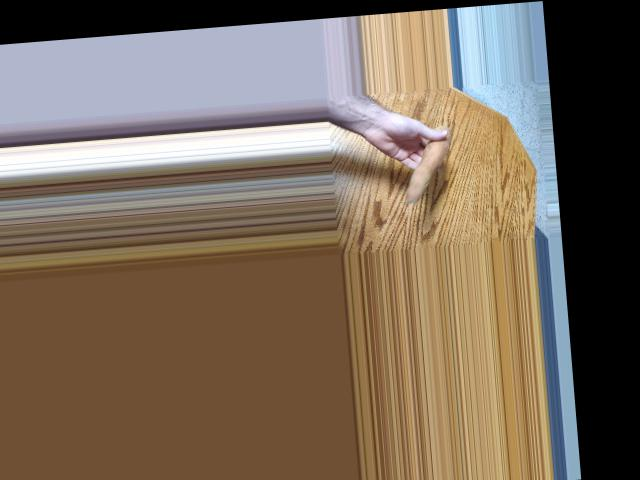sweet_potato: (399, 122, 456, 203)
